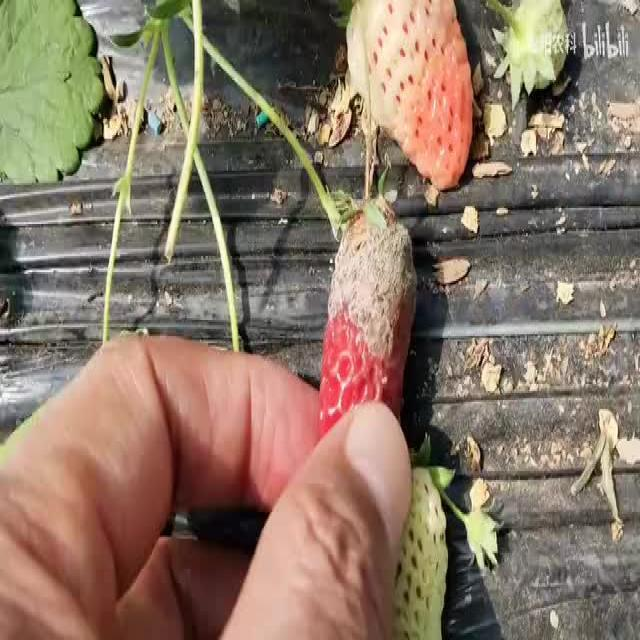Moho gris: (306, 183, 415, 411)
